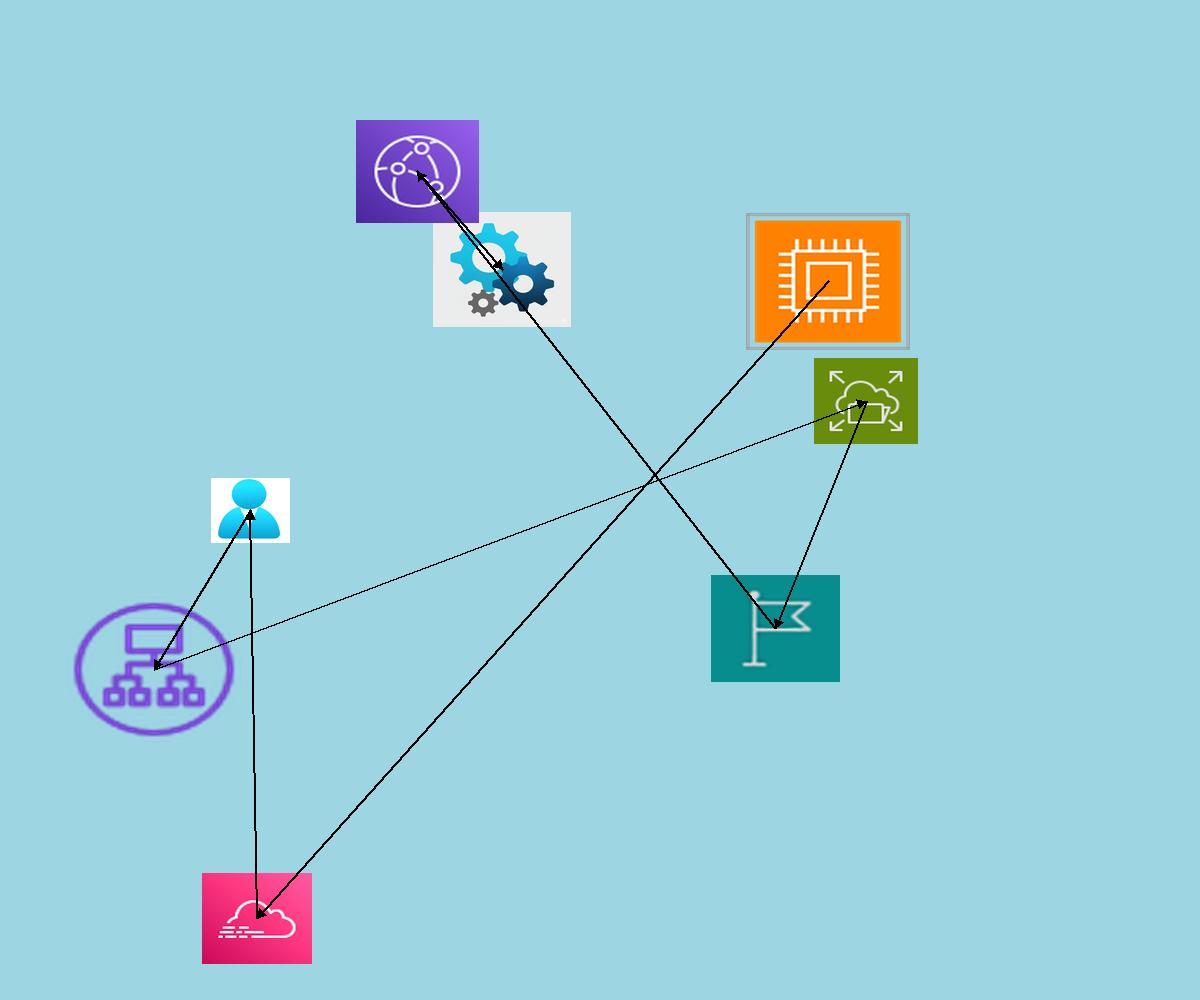AWS-Category_Compute: (746, 213, 910, 350)
AWS-CloudFront: (356, 120, 479, 223)
AWS-CloudTrail: (202, 873, 312, 964)
AWS-EFS: (814, 358, 918, 444)
AWS-Region: (711, 575, 840, 682)
AWS-Res_Elastic-Load-Balancing_Application-Load-Balancer: (67, 597, 241, 742)
Azure_api: (433, 212, 571, 327)
Azure_users: (211, 478, 290, 543)
